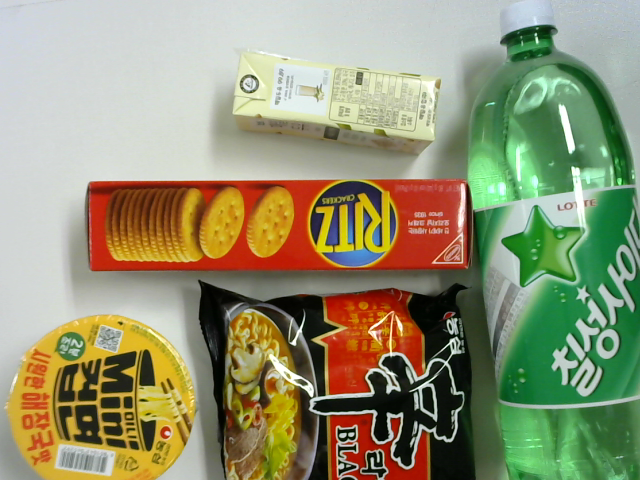99.89_Soymilk: (229, 46, 443, 152)
Chilseong_Cider_1.5L: (471, 8, 640, 478)
Hejangmini: (3, 312, 192, 480)
Ritz_Cracker: (79, 172, 469, 276)
Sinramen_Black: (201, 286, 468, 480)
